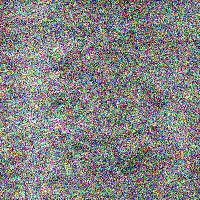rolled-in_scale: (34, 124, 172, 186), (51, 25, 104, 107)
